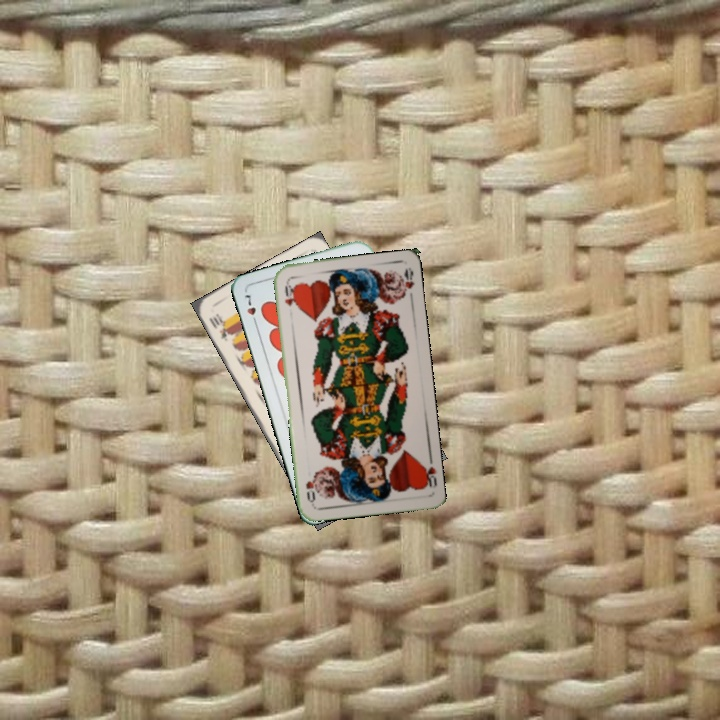E10: (205, 309, 234, 344)
H7: (241, 291, 260, 329)
HO: (418, 452, 440, 491), (281, 277, 299, 309)
